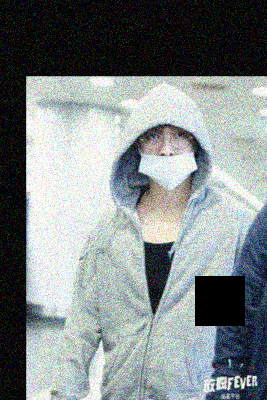mask_weared_incorrect: (135, 126, 198, 190)
